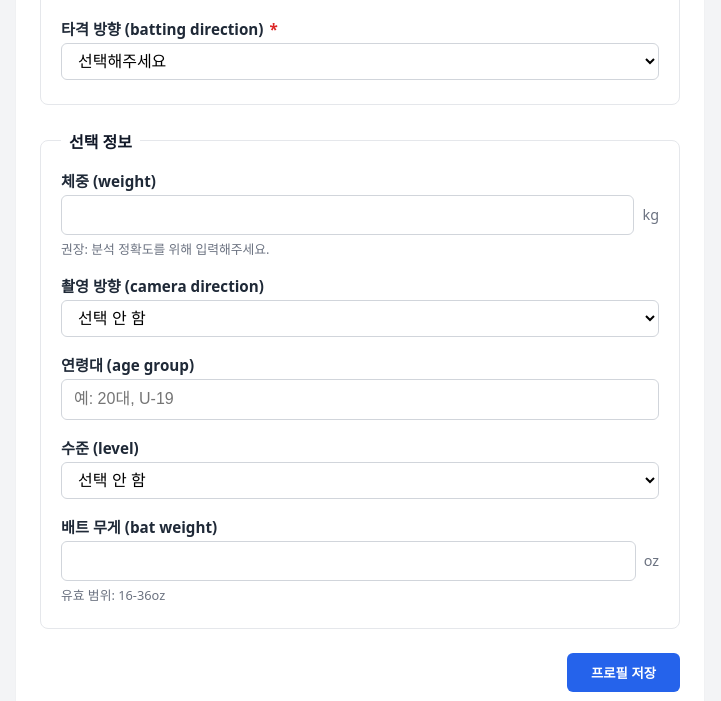
it: UserProfileForm › shows validation errors for missing required fields on submit
(page scrolled)
Click the button with test id "user-profile-form-submit".
click(624, 672)  # box [567, 653, 680, 692]
(page scrolled)
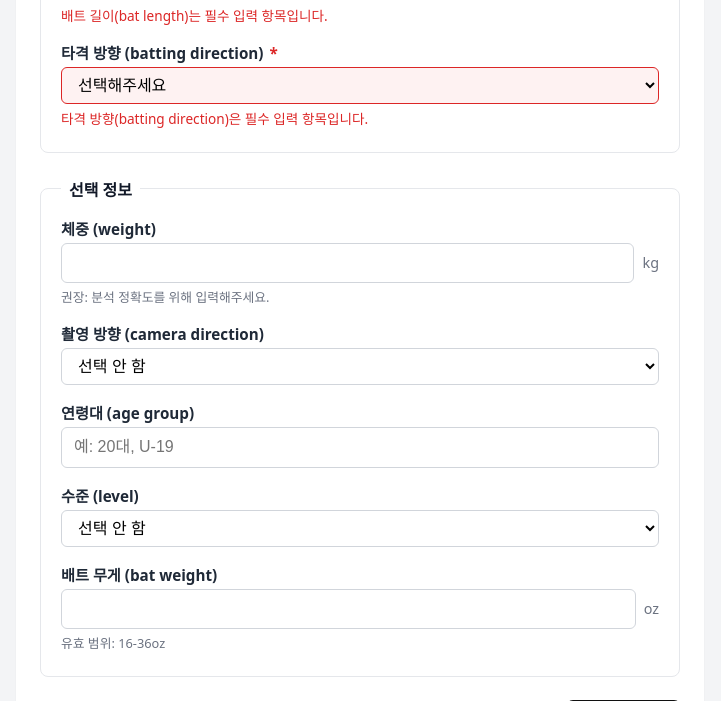
Now the message with test id "form-field-error-bat_length" shows "필수", box [61, 6, 328, 25]
Now the message with test id "form-field-error-batting_direction" shows "필수", box [61, 109, 368, 128]
